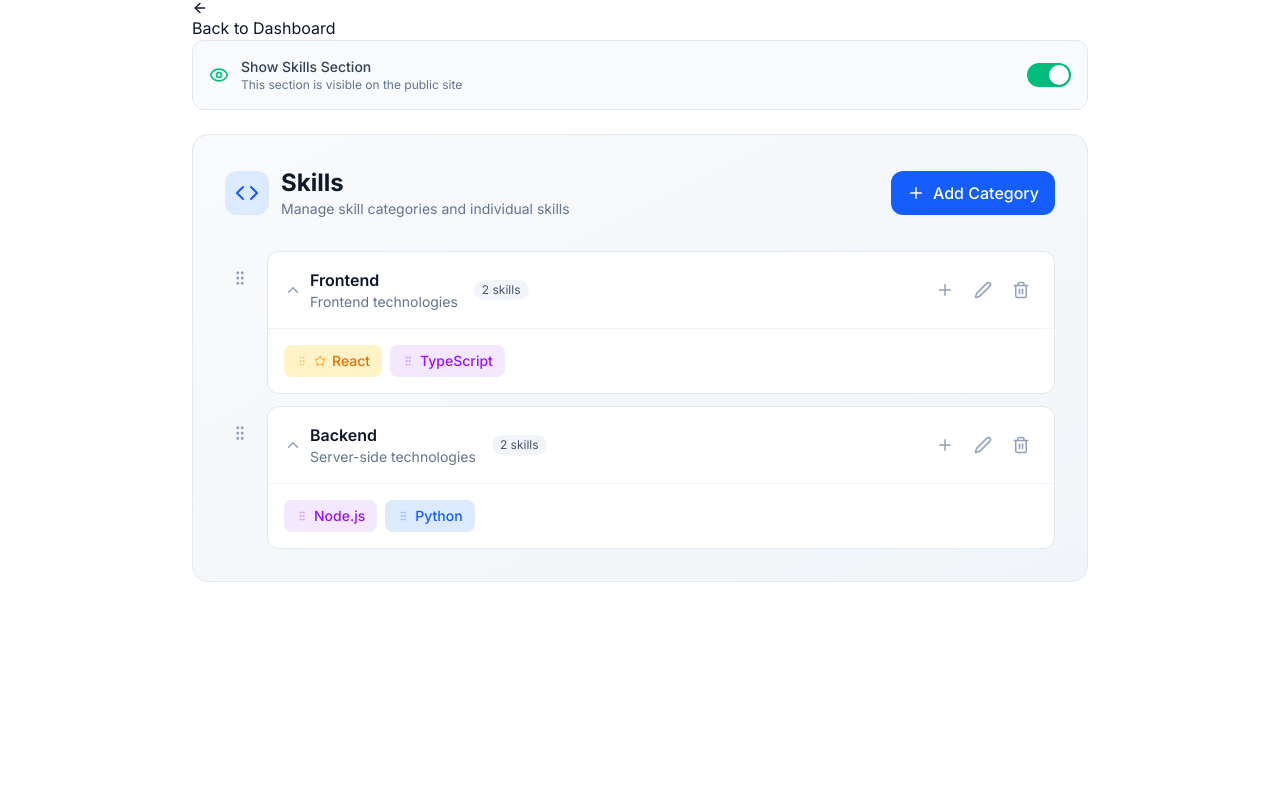
it: SkillsEditor › delete category › closes dialog when cancel is clicked
# Open delete dialog
Click the button named "Delete Frontend" at (1021, 290), box [1004, 273, 1038, 307]
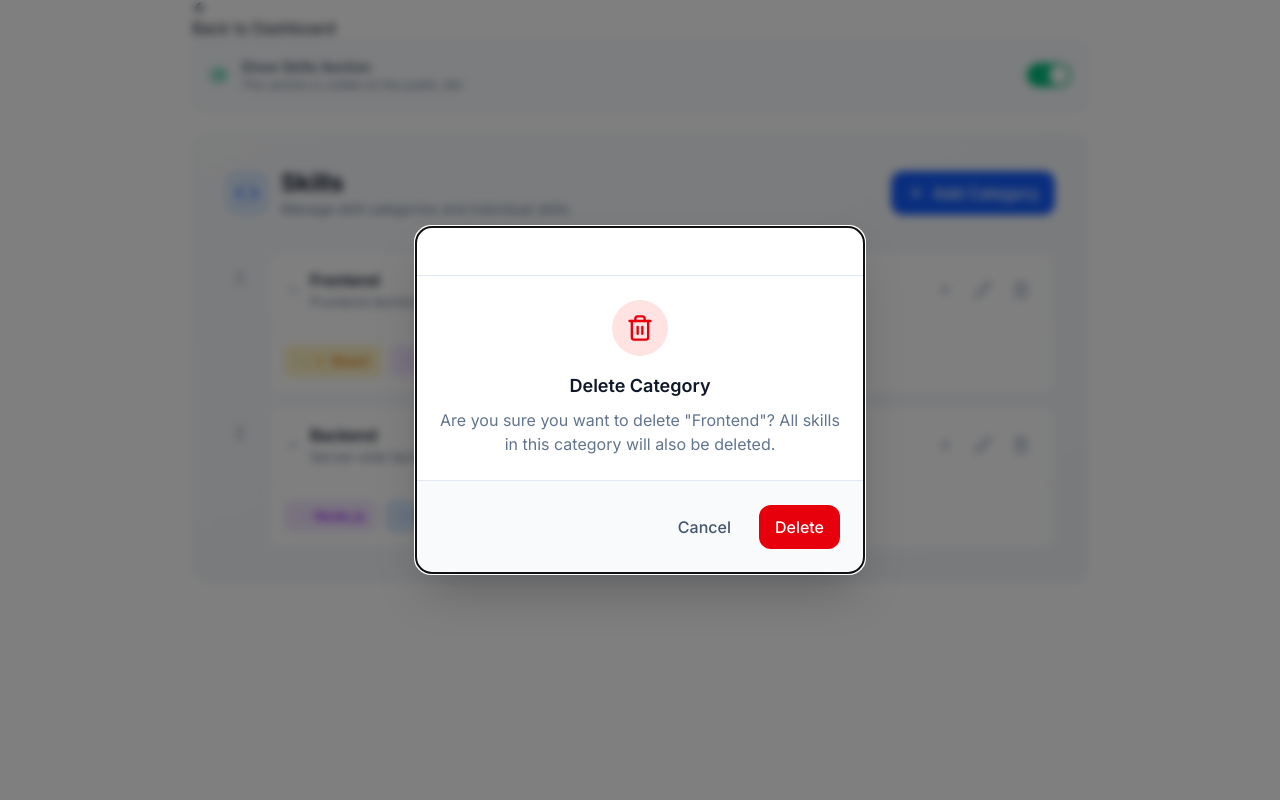
Click the button "Cancel" at (704, 527), box [662, 505, 747, 549]
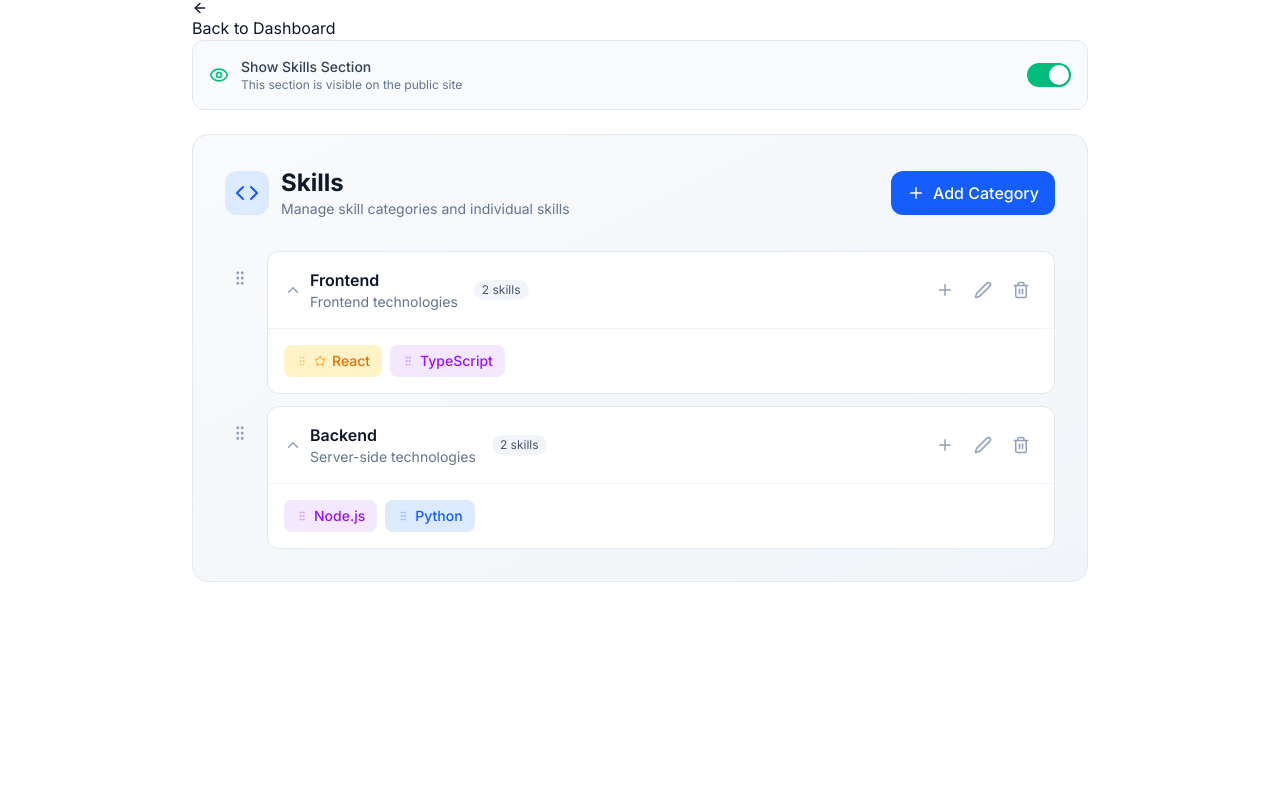
Now the text "Are you sure you want to delete \"Frontend\"" is gone
